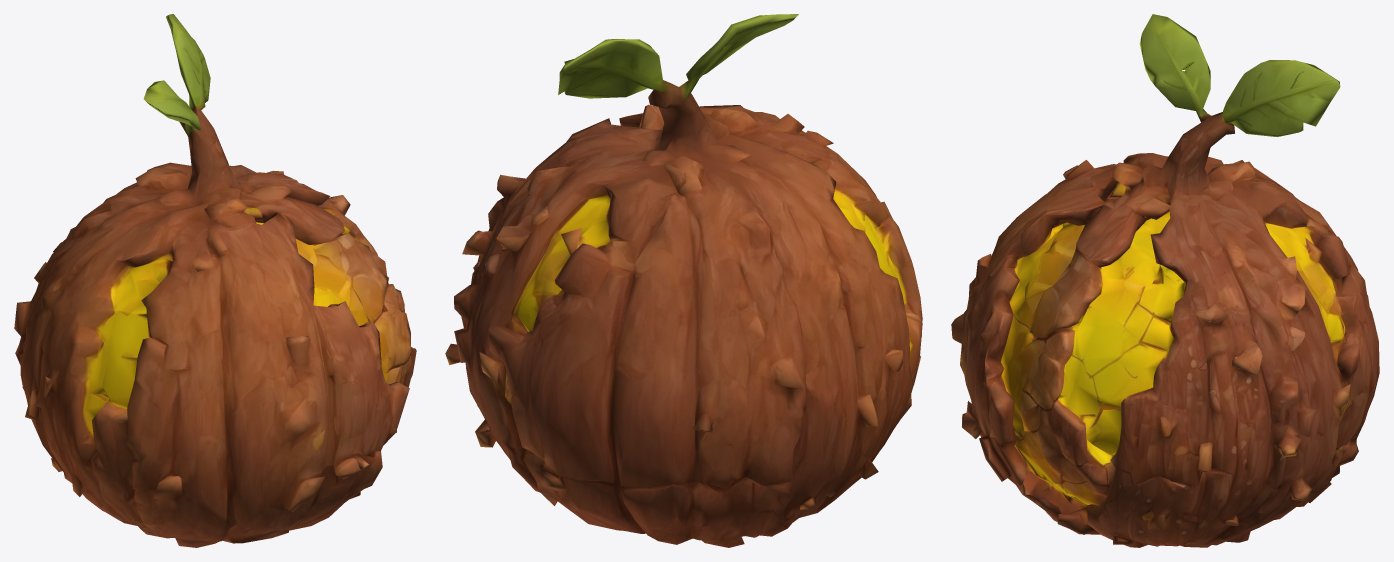
The model's file is seed_pod.glb.
3 renders of one model, left to right at view 1: azimuth 30°, elevation 25°; view 2: azimuth 150°, elevation 25°; view 3: azimuth 270°, elevation 25°, orthographic. The views are drawn at different scales.
Visible parts, largest first — view 1: tripo_node_e798a2d7-1783-4aeb-bc16-c3fd8ce9c92a; view 2: tripo_node_e798a2d7-1783-4aeb-bc16-c3fd8ce9c92a; view 3: tripo_node_e798a2d7-1783-4aeb-bc16-c3fd8ce9c92a.
Part boxes in pixels (x1,y1,x2,y2): tripo_node_e798a2d7-1783-4aeb-bc16-c3fd8ce9c92a: [14, 14, 416, 547]; tripo_node_e798a2d7-1783-4aeb-bc16-c3fd8ce9c92a: [445, 14, 922, 547]; tripo_node_e798a2d7-1783-4aeb-bc16-c3fd8ce9c92a: [951, 14, 1379, 547].
Bounding box in the file's own units: 0.8373 × 1 × 0.8389.
1 material, 1 textured.
